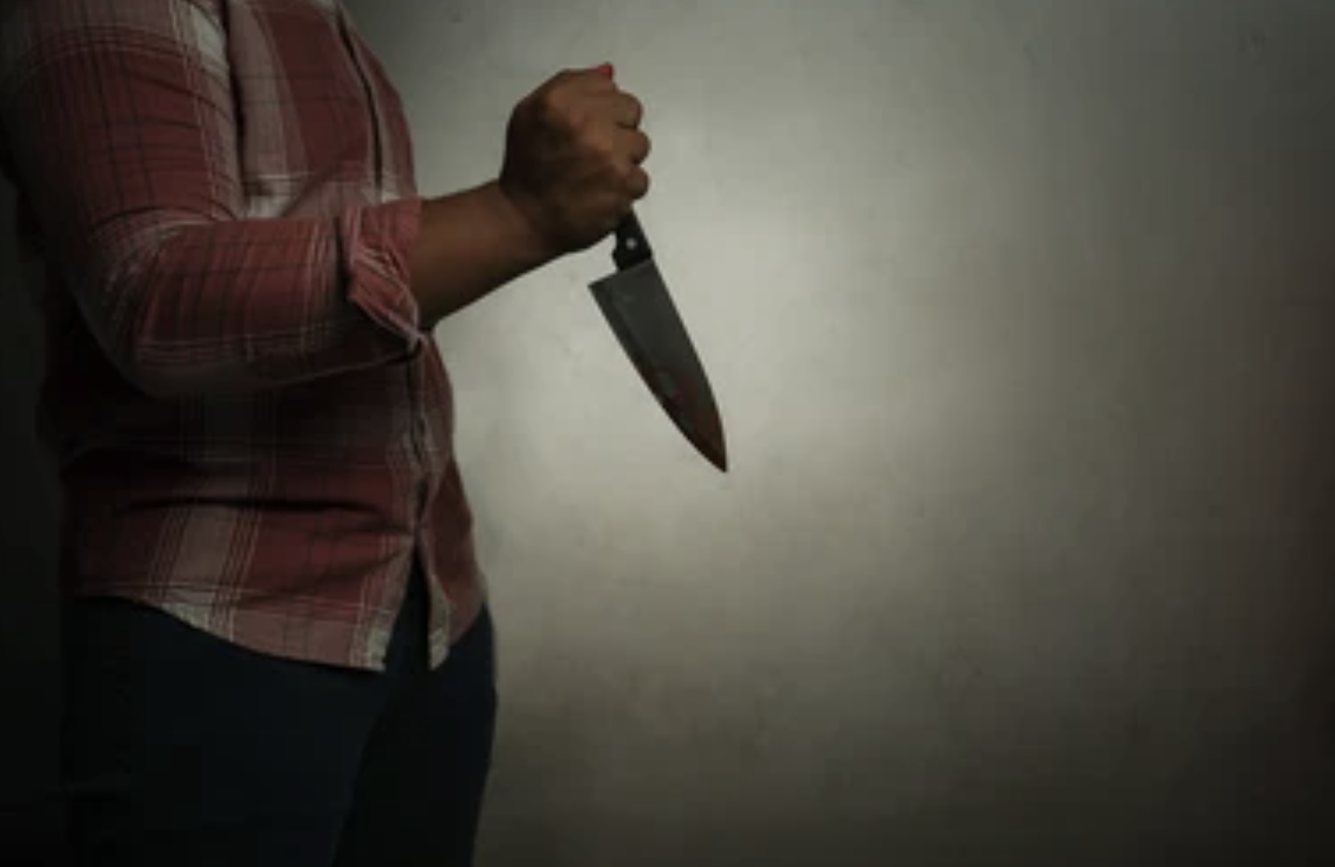knife_63.png: (574, 195, 765, 481)
